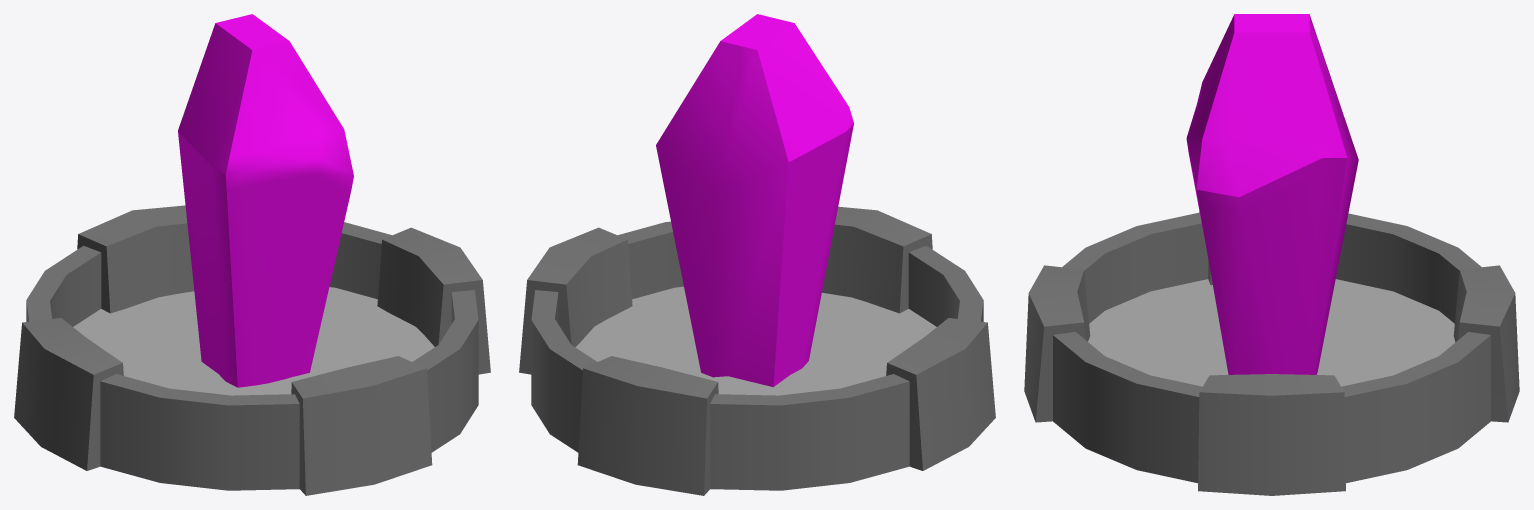
The model's file is CrystalBlockout.fbx.
3 renders of one model, left to right at view 1: azimuth 30°, elevation 25°; view 2: azimuth 150°, elevation 25°; view 3: azimuth 270°, elevation 25°, orthographic.
Visible parts, largest first — view 1: pDisc2, polySurface1; view 2: pDisc2, polySurface1; view 3: pDisc2, polySurface1.
Part boxes in pixels (bbox=[...]): pDisc2: bbox=[14, 205, 490, 495]; polySurface1: bbox=[178, 14, 353, 387]; pDisc2: bbox=[519, 206, 995, 495]; polySurface1: bbox=[656, 14, 853, 387]; pDisc2: bbox=[1024, 211, 1519, 495]; polySurface1: bbox=[1186, 14, 1358, 374].
Size of the model in its own units: 416 by 370 by 416.
